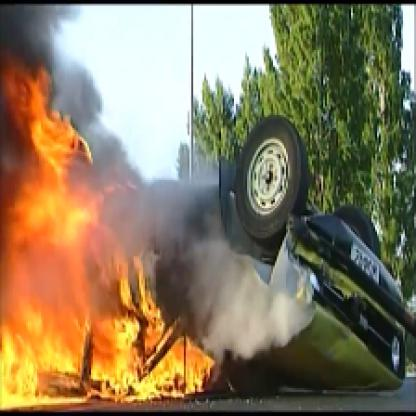Fire: (2, 84, 225, 414)
